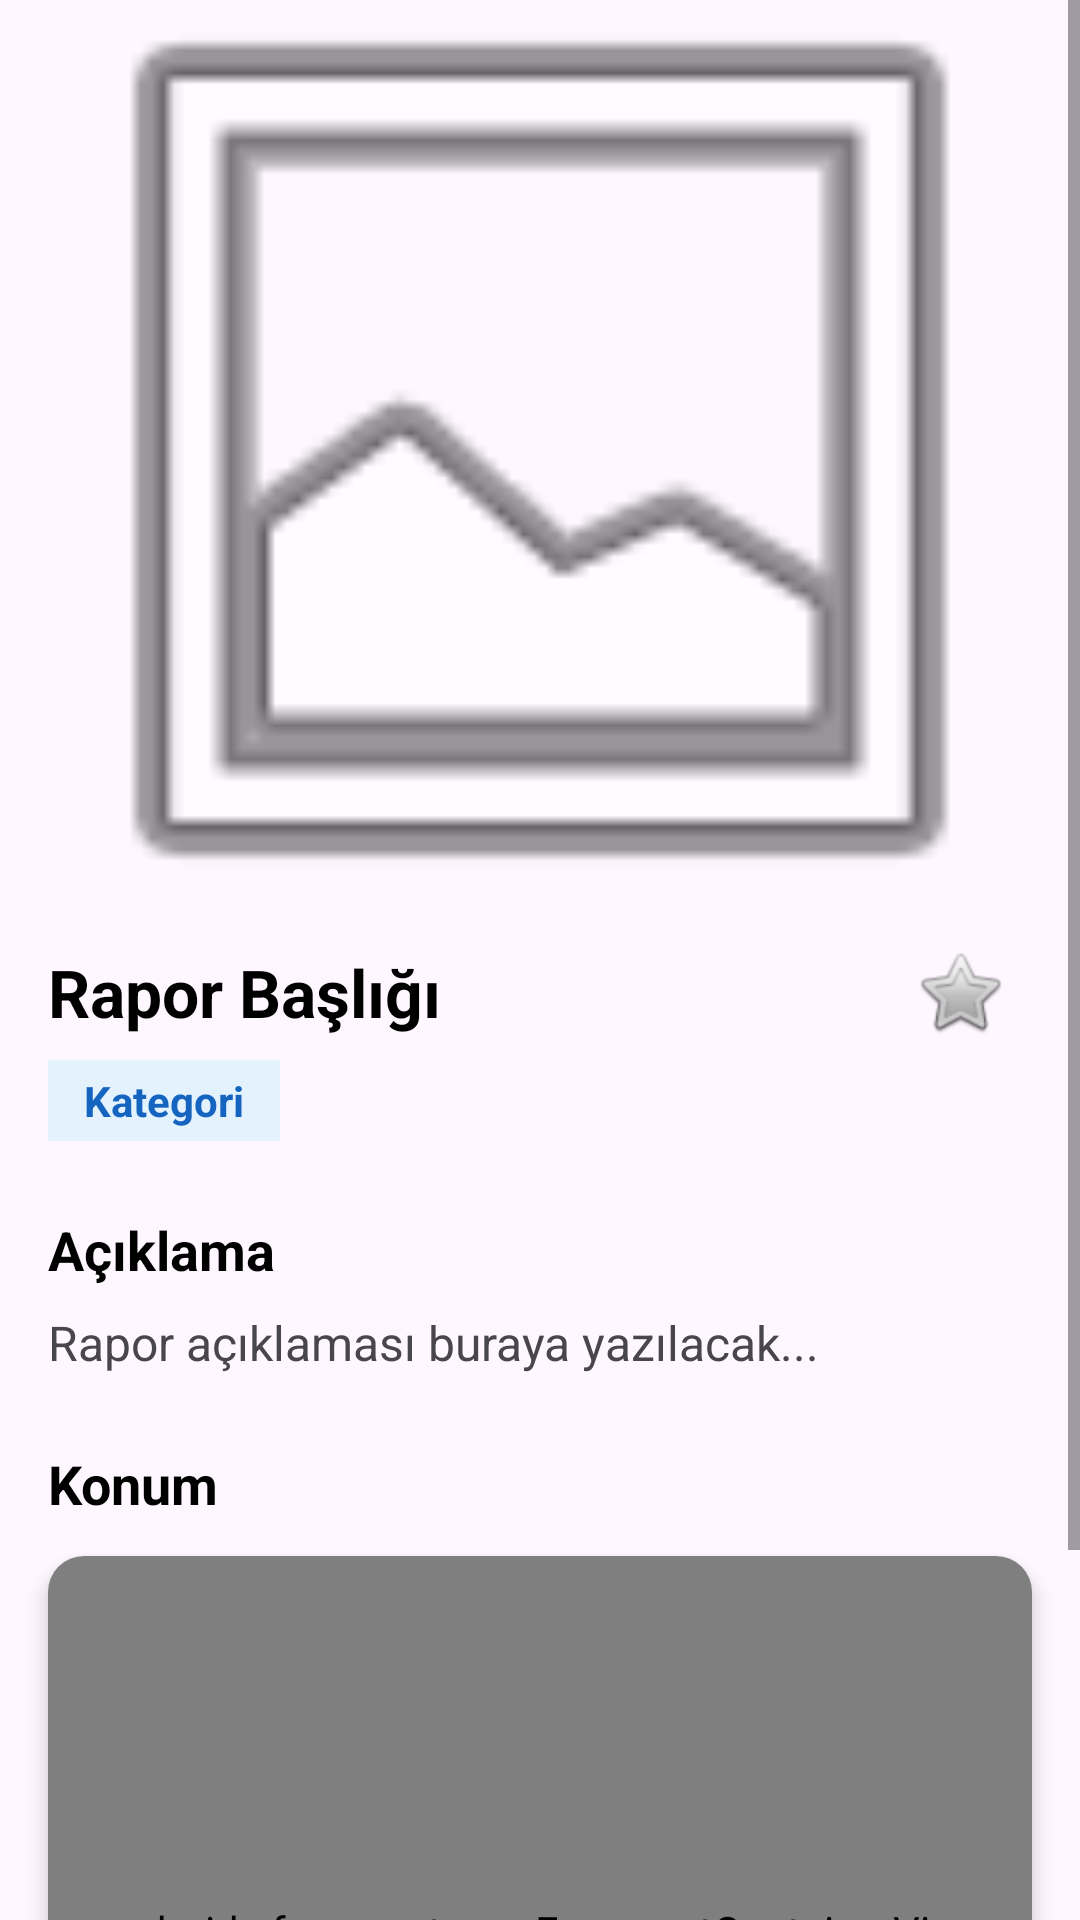

Where to tap for icons on this 1080 x 1920 app screen, as (x=x, y=y):
star off: (x=961, y=993)
